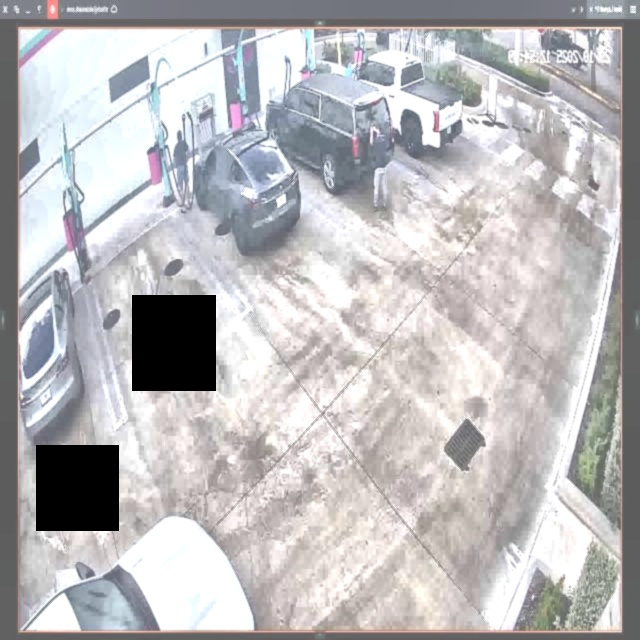Car: (266, 70, 392, 188), (191, 130, 300, 253), (337, 48, 462, 155)
